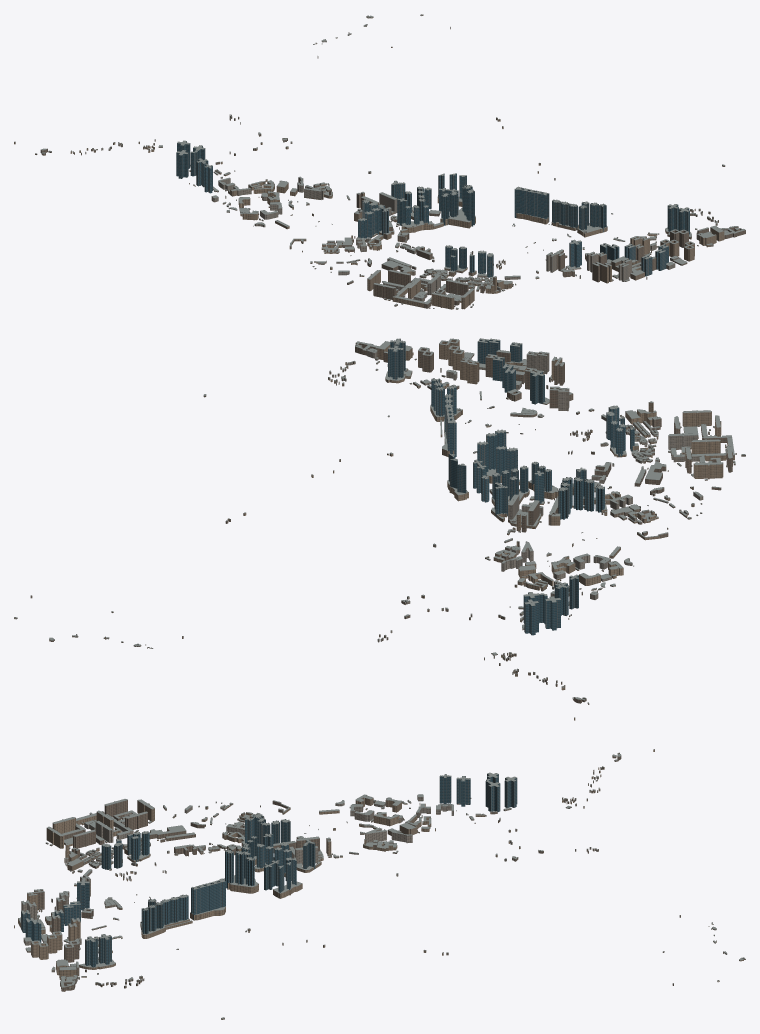
The model's file is diamond-hill-buildings.glb.
The picture shows the model from 3 angles, top to bottom: view 1: azimuth 30°, elevation 25°; view 2: azimuth 150°, elevation 25°; view 3: azimuth 270°, elevation 25°; orthographic projection. The views are drawn at different scales.
Visible parts, largest first — view 1: District_33_-39, District_31_-40, District_34_-37, District_25_-48, District_29_-36, District_37_-35, District_35_-34, District_32_-35, District_27_-40, District_28_-41, District_26_-36, District_27_-36 (+5 smaller); view 2: District_25_-48, District_28_-41, District_31_-40, District_29_-42, District_30_-41, District_27_-36, District_35_-34, District_27_-40, District_32_-35, District_31_-41, District_36_-36, District_34_-34 (+2 smaller); view 3: District_33_-39, District_31_-40, District_25_-48, District_28_-41, District_35_-34, District_37_-35, District_31_-41, District_30_-41, District_29_-36, District_27_-36, District_25_-46, District_33_-35 (+12 smaller).
Boxes of the visible parts, x1=… form: District_33_-39: x1=514, y1=186, x2=549, y2=224; District_31_-40: x1=440, y1=185, x2=475, y2=228; District_34_-37: x1=577, y1=202, x2=607, y2=237; District_25_-48: x1=176, y1=140, x2=205, y2=178; District_29_-36: x1=456, y1=250, x2=493, y2=285; District_37_-35: x1=678, y1=207, x2=724, y2=245; District_35_-34: x1=655, y1=239, x2=687, y2=270; District_32_-35: x1=556, y1=239, x2=581, y2=277; District_27_-40: x1=341, y1=218, x2=383, y2=252; District_28_-41: x1=362, y1=199, x2=392, y2=237; District_26_-36: x1=373, y1=283, x2=425, y2=307; District_27_-36: x1=408, y1=274, x2=445, y2=301; District_25_-48: x1=522, y1=592, x2=560, y2=635; District_28_-41: x1=551, y1=477, x2=594, y2=519; District_31_-40: x1=477, y1=429, x2=506, y2=483; District_29_-42: x1=494, y1=482, x2=543, y2=528; District_30_-41: x1=481, y1=465, x2=529, y2=506; District_27_-36: x1=668, y1=433, x2=720, y2=461; District_35_-34: x1=448, y1=338, x2=500, y2=370; District_27_-40: x1=594, y1=485, x2=634, y2=517; District_32_-35: x1=530, y1=370, x2=573, y2=408; District_31_-41: x1=447, y1=458, x2=486, y2=501; District_36_-36: x1=385, y1=345, x2=420, y2=387; District_34_-34: x1=485, y1=350, x2=526, y2=381; District_33_-39: x1=190, y1=878, x2=225, y2=920; District_31_-40: x1=223, y1=849, x2=258, y2=893; District_25_-48: x1=485, y1=772, x2=517, y2=811; District_28_-41: x1=254, y1=814, x2=296, y2=852; District_35_-34: x1=23, y1=918, x2=62, y2=953; District_37_-35: x1=56, y1=936, x2=98, y2=979; District_31_-41: x1=264, y1=860, x2=302, y2=898; District_30_-41: x1=254, y1=844, x2=292, y2=881; District_29_-36: x1=88, y1=839, x2=122, y2=869; District_27_-36: x1=84, y1=810, x2=121, y2=844; District_25_-46: x1=416, y1=774, x2=453, y2=818; District_33_-35: x1=56, y1=892, x2=93, y2=925.
Size of what is drawn, in the model's own units: 2460 by 157 by 2835.
Materials: 7 (6 with a texture image).
